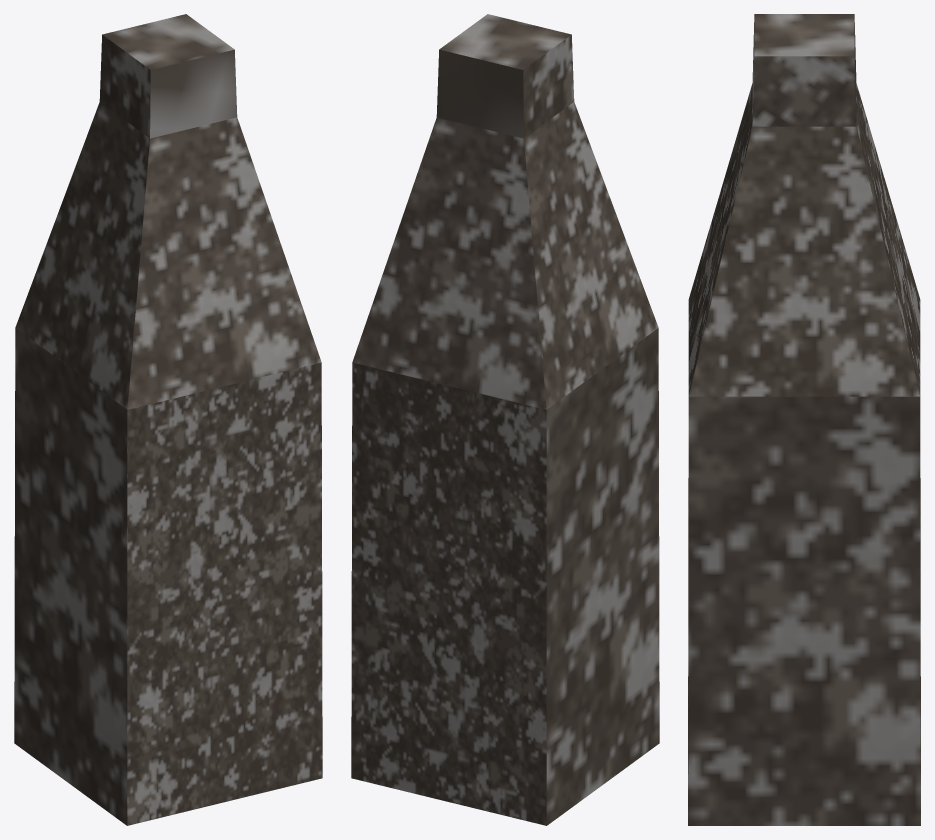
File: TuiBottle.fbx
3 renders of one model, left to right at view 1: azimuth 30°, elevation 25°; view 2: azimuth 150°, elevation 25°; view 3: azimuth 270°, elevation 25°, orthographic. The views are drawn at different scales.
Parts seen in each view (by area): view 1: pCube1; view 2: pCube1; view 3: pCube1.
Part boxes in pixels (x1,y1,x2,y2): pCube1: [14, 14, 322, 825]; pCube1: [351, 14, 659, 825]; pCube1: [688, 14, 920, 825].
Bounding box in the file's own units: 1.05 × 3.7 × 1.05.
